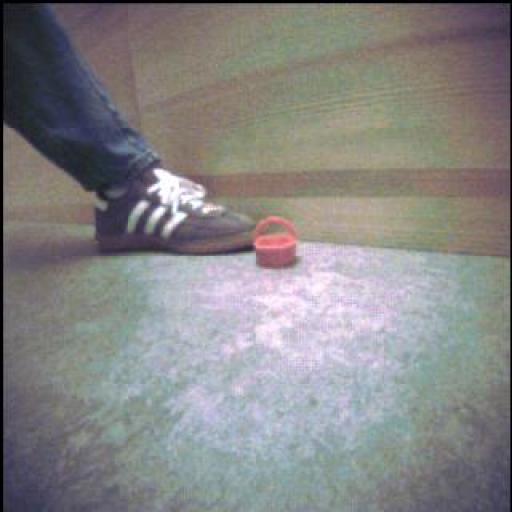Bucket: (256, 217, 299, 268)
